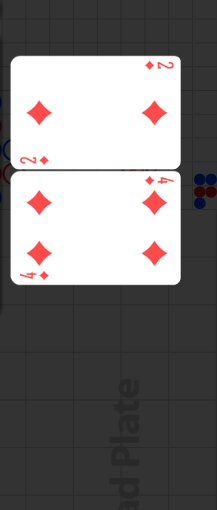2D: (143, 59, 175, 72)
4D: (19, 269, 51, 282)
